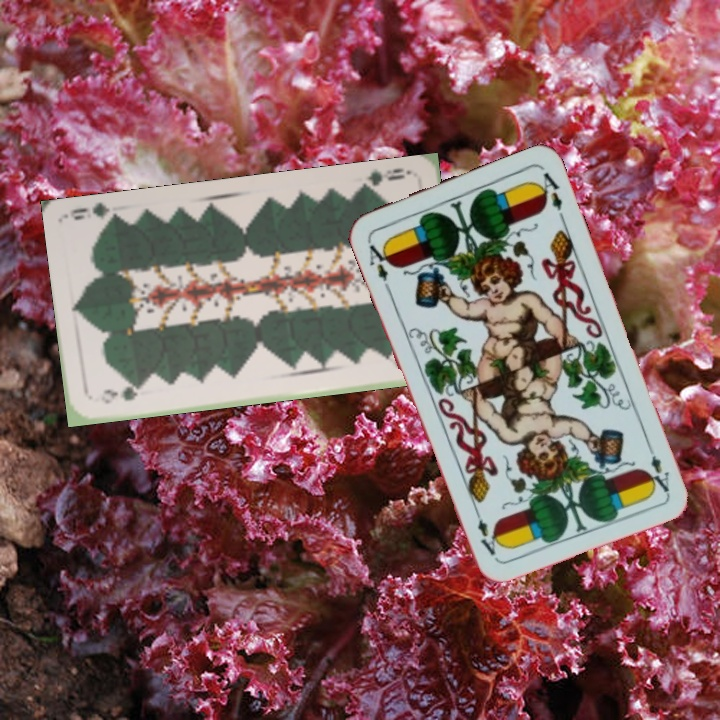EA: (643, 439, 672, 495), (363, 235, 395, 284)
G9: (356, 164, 414, 194), (97, 383, 144, 406)
